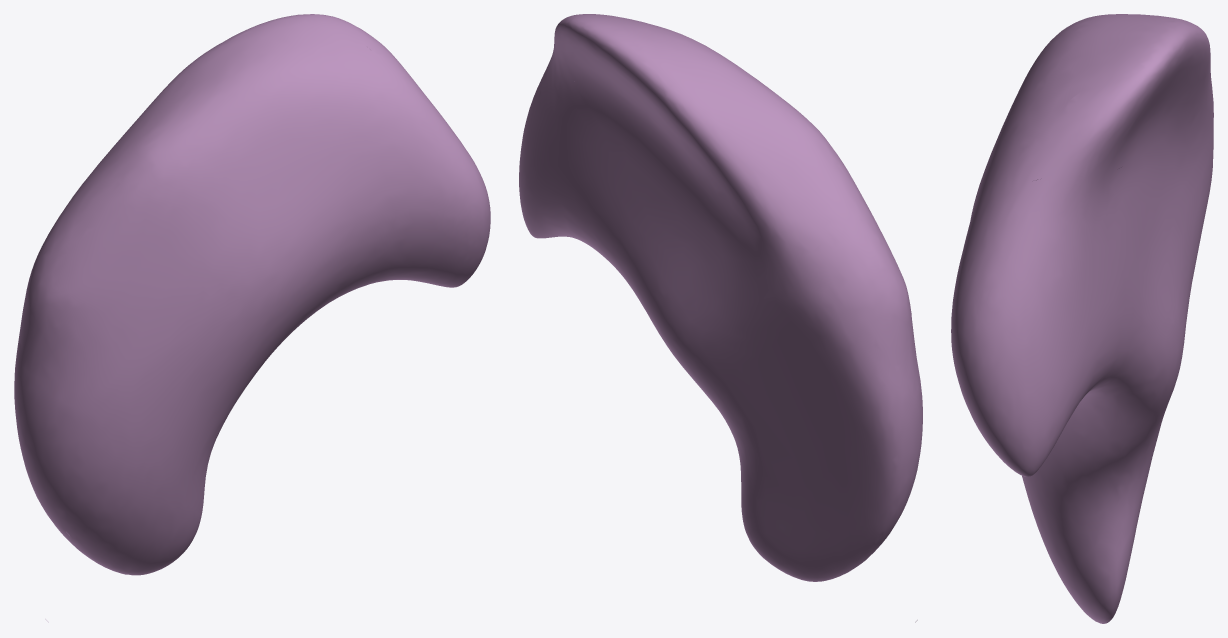
3 views of the same model, side by side, from view 1: azimuth 30°, elevation 25°; view 2: azimuth 150°, elevation 25°; view 3: azimuth 270°, elevation 25° (orthographic). The views are drawn at different scales.
Visible parts, largest first — view 1: 右侧上半月小叶; view 2: 右侧上半月小叶; view 3: 右侧上半月小叶.
Part boxes in pixels (bbox=[...]): 右侧上半月小叶: bbox=[14, 14, 490, 622]; 右侧上半月小叶: bbox=[519, 14, 922, 622]; 右侧上半月小叶: bbox=[951, 14, 1213, 623].
Bounding box in the file's own units: 0.0722 × 0.0862 × 0.0285.
